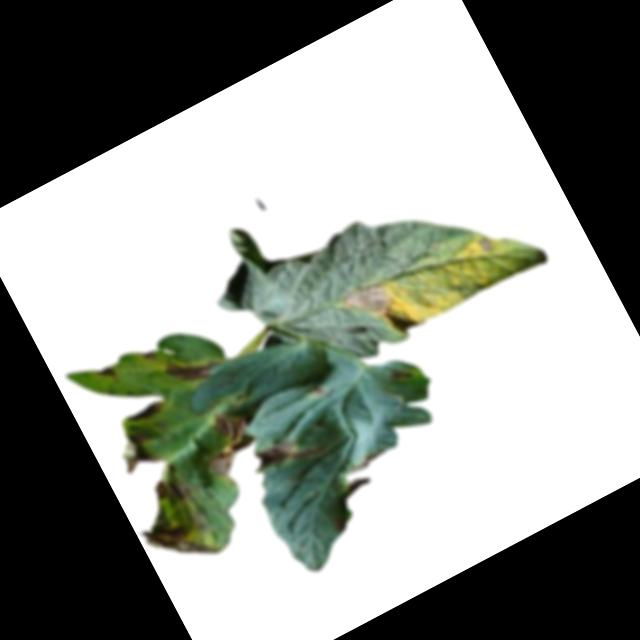Early_blight: (134, 495, 220, 584), (187, 402, 262, 481), (250, 422, 325, 484), (339, 272, 397, 326), (161, 343, 218, 392), (149, 462, 200, 511), (110, 425, 158, 476), (122, 394, 167, 429), (385, 360, 414, 387), (94, 358, 119, 384), (472, 231, 497, 256), (142, 345, 158, 362)
